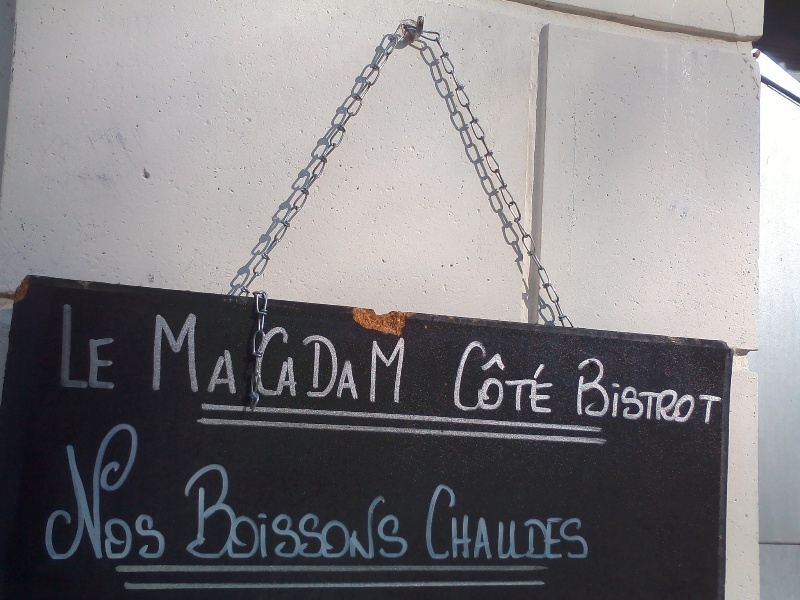text: (49, 423, 64, 565), (65, 423, 80, 565), (81, 423, 96, 565), (97, 423, 112, 565), (113, 423, 128, 565), (129, 423, 144, 565), (145, 423, 160, 565), (161, 423, 176, 565), (193, 463, 208, 563), (209, 463, 224, 563), (225, 463, 240, 563), (241, 463, 256, 563), (257, 463, 272, 563), (273, 463, 288, 563), (289, 463, 304, 563), (305, 463, 320, 563), (321, 463, 336, 563), (337, 463, 352, 563), (353, 463, 368, 563), (369, 463, 384, 563), (385, 463, 400, 563), (65, 301, 80, 393), (81, 301, 96, 393), (97, 301, 112, 393), (161, 310, 176, 397), (177, 310, 192, 397), (193, 310, 208, 397), (209, 310, 224, 397), (225, 310, 240, 397), (39, 423, 48, 565), (465, 339, 480, 418), (481, 339, 496, 418), (497, 339, 512, 418), (513, 339, 528, 418), (529, 339, 544, 418), (433, 484, 448, 563), (449, 484, 464, 563), (465, 484, 480, 563), (481, 484, 496, 563), (497, 484, 512, 563), (513, 484, 528, 563), (529, 484, 544, 563), (545, 484, 560, 563), (561, 484, 576, 563), (577, 484, 592, 563), (577, 353, 592, 430), (593, 353, 608, 430), (609, 353, 624, 430), (625, 353, 640, 430), (641, 353, 656, 430), (657, 353, 672, 430), (673, 353, 688, 430), (689, 353, 704, 430), (705, 353, 720, 430), (257, 325, 272, 400), (273, 325, 288, 400), (385, 334, 400, 407), (305, 330, 320, 402), (321, 330, 336, 402), (337, 330, 352, 402), (370, 334, 384, 407), (401, 463, 410, 563), (545, 339, 556, 418), (113, 301, 122, 393), (184, 463, 192, 563), (151, 310, 160, 397), (289, 325, 299, 400), (456, 339, 464, 418), (353, 330, 361, 402), (425, 484, 432, 563), (401, 334, 407, 407), (721, 353, 725, 430), (61, 301, 64, 393), (241, 310, 243, 397), (574, 353, 576, 430)
